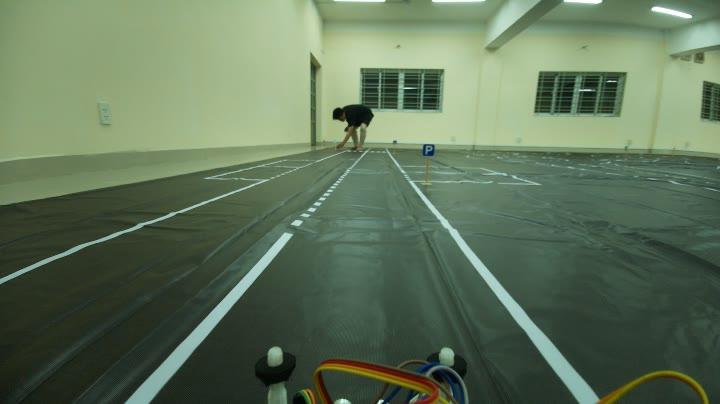parking: (420, 139, 438, 160)
